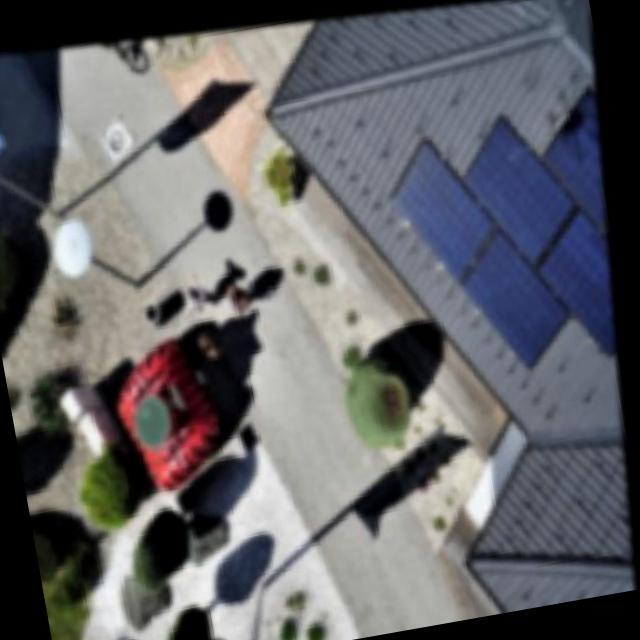Person: (200, 312, 242, 366), (180, 261, 220, 315), (224, 269, 262, 315)
